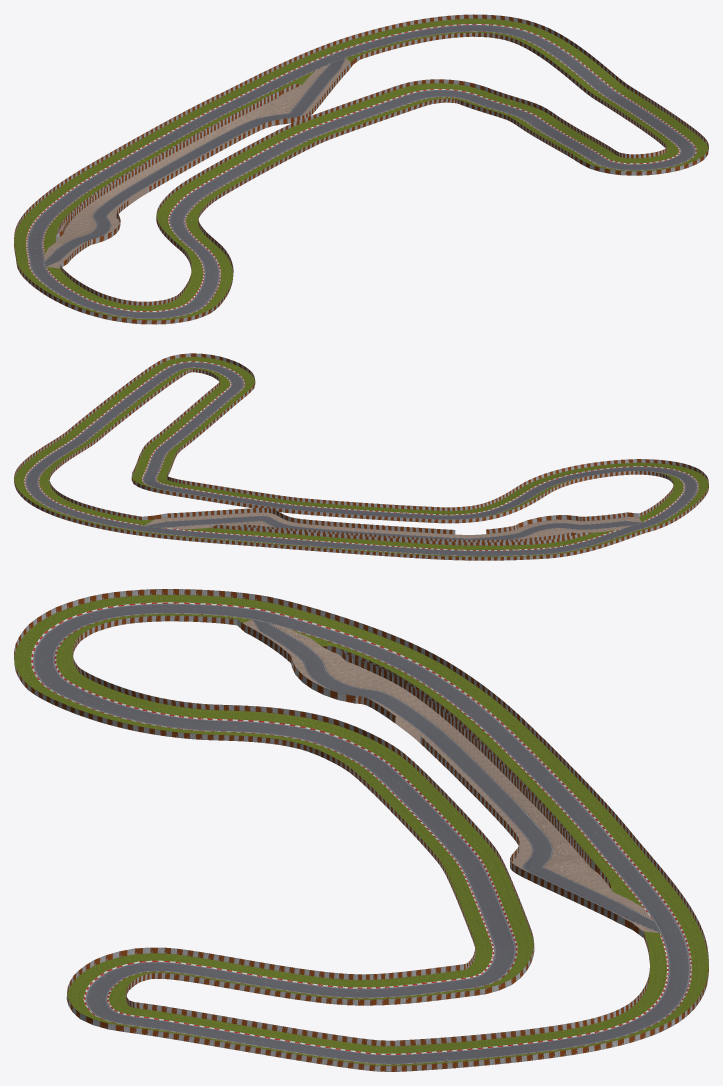
File: brands-hatchproba1.fbx
The picture shows the model from 3 angles, top to bottom: view 1: azimuth 30°, elevation 25°; view 2: azimuth 150°, elevation 25°; view 3: azimuth 270°, elevation 25°; orthographic projection. The views are drawn at different scales.
Parts seen in each view (by area): view 1: Plane; view 2: Plane; view 3: Plane.
Part boxes in pixels (box(x1,y1,x2,y2)): Plane: box(14, 14, 708, 324); Plane: box(14, 353, 708, 560); Plane: box(14, 589, 708, 1071).
Size of the model in its own units: 20961 by 738 by 13530.
